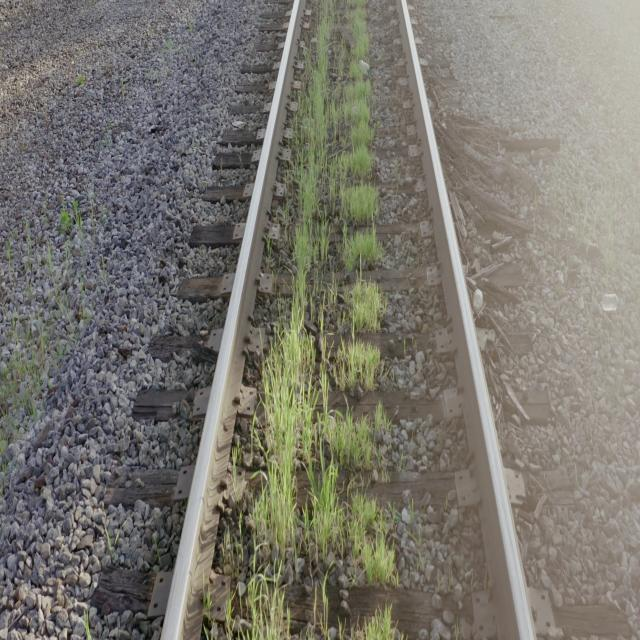Plant: (241, 0, 396, 638), (351, 607, 395, 638)
